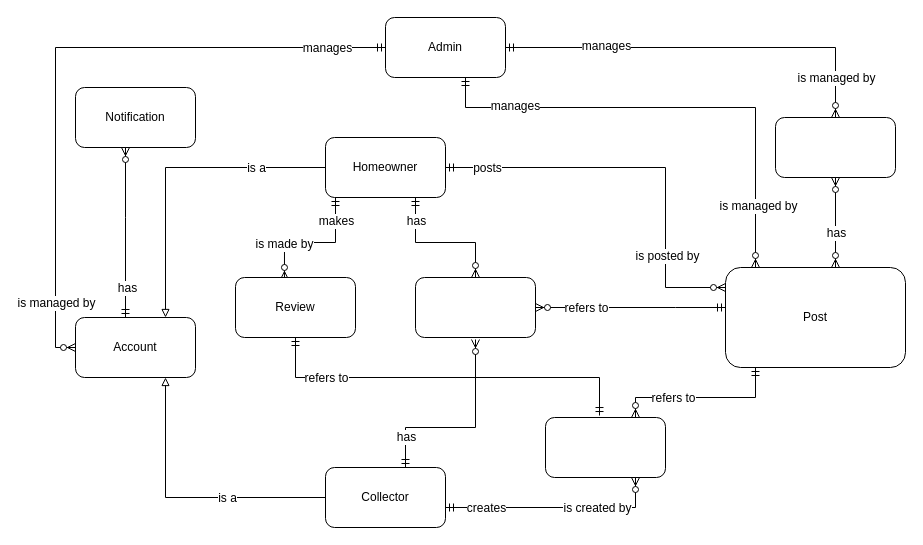
Image size: 923x545. Some labels were removed from this diagram. Here are the shapes that lost their labels. From the top down, the centre of each, then its label:
the point at 835,147: Category
the point at 475,307: Conversation
the point at 605,447: Booking
